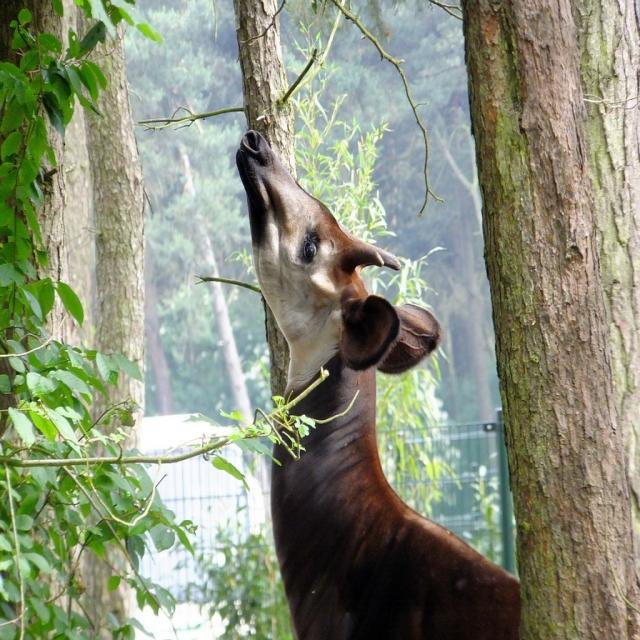Deer: (236, 130, 522, 640)
